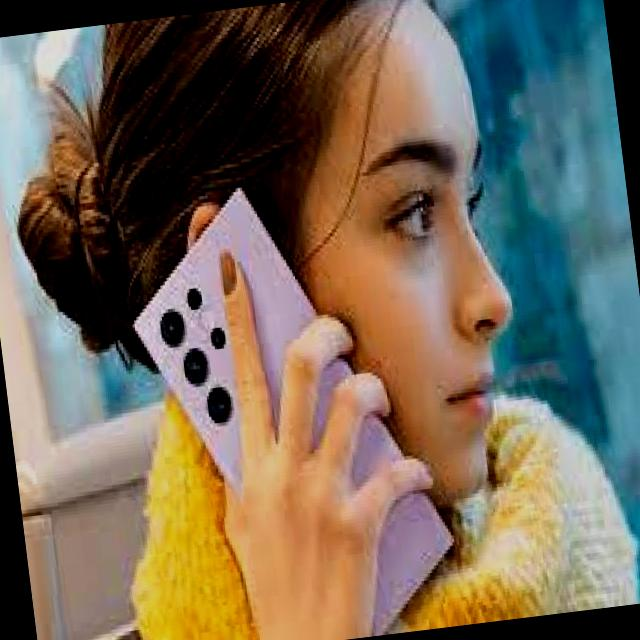lens_back: (192, 380, 245, 432), (147, 301, 199, 346), (167, 344, 214, 392), (182, 272, 208, 308), (208, 320, 227, 348)
phone: (120, 170, 465, 640)
